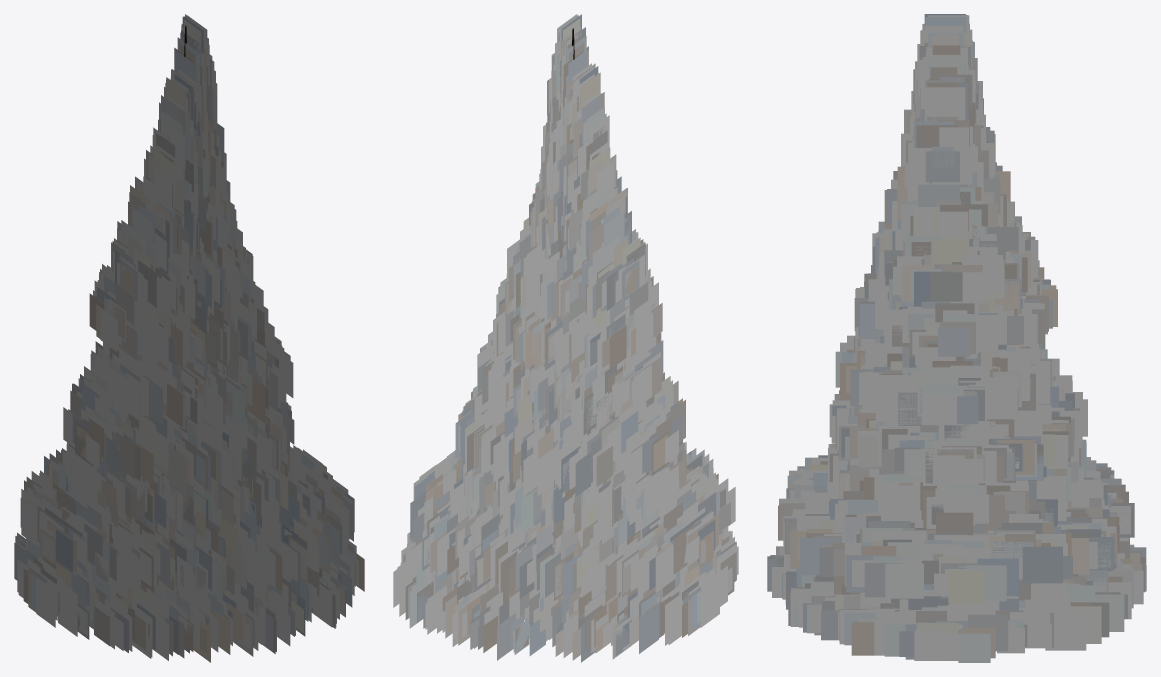
The model's file is SM_V2_Pine_B.fbx.
The picture shows the model from 3 angles, left to right: view 1: azimuth 30°, elevation 25°; view 2: azimuth 150°, elevation 25°; view 3: azimuth 270°, elevation 25°; orthographic projection. The views are drawn at different scales.
Parts seen in each view (by area): view 1: SM_V2_Pine_B; view 2: SM_V2_Pine_B; view 3: SM_V2_Pine_B.
Boxes of the visible parts, x1,y1,x2,y2 form: SM_V2_Pine_B: (14,14,364,662); SM_V2_Pine_B: (393,14,738,662); SM_V2_Pine_B: (767,14,1146,662).
Size of the model in its own units: 12.99 by 26.5 by 14.5.
